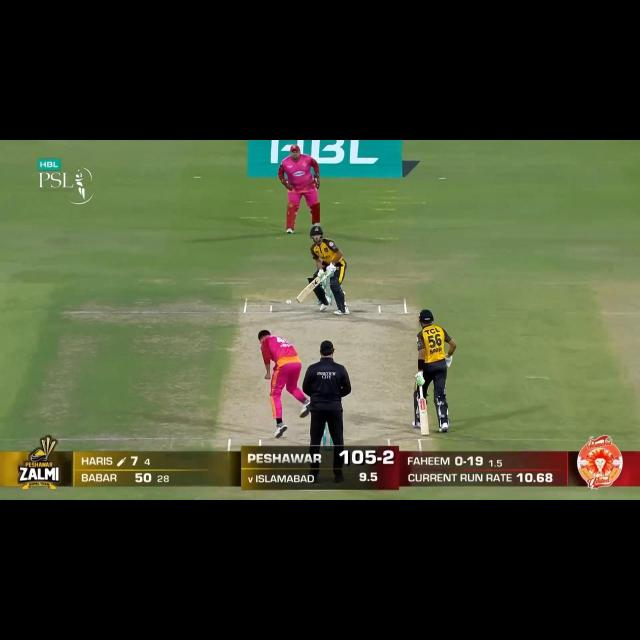bat: (296, 274, 324, 304), (418, 398, 432, 438)
toe: (293, 292, 303, 304), (420, 428, 431, 437)
